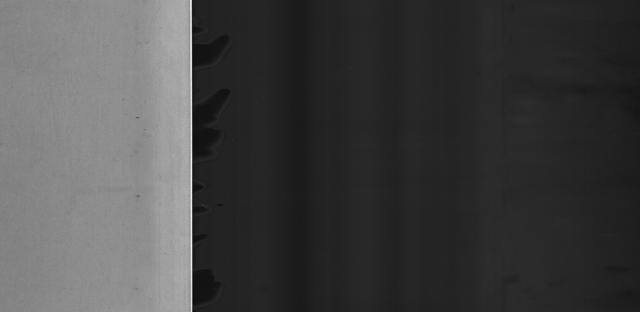inclusion: (132, 190, 143, 204), (134, 112, 144, 125)
